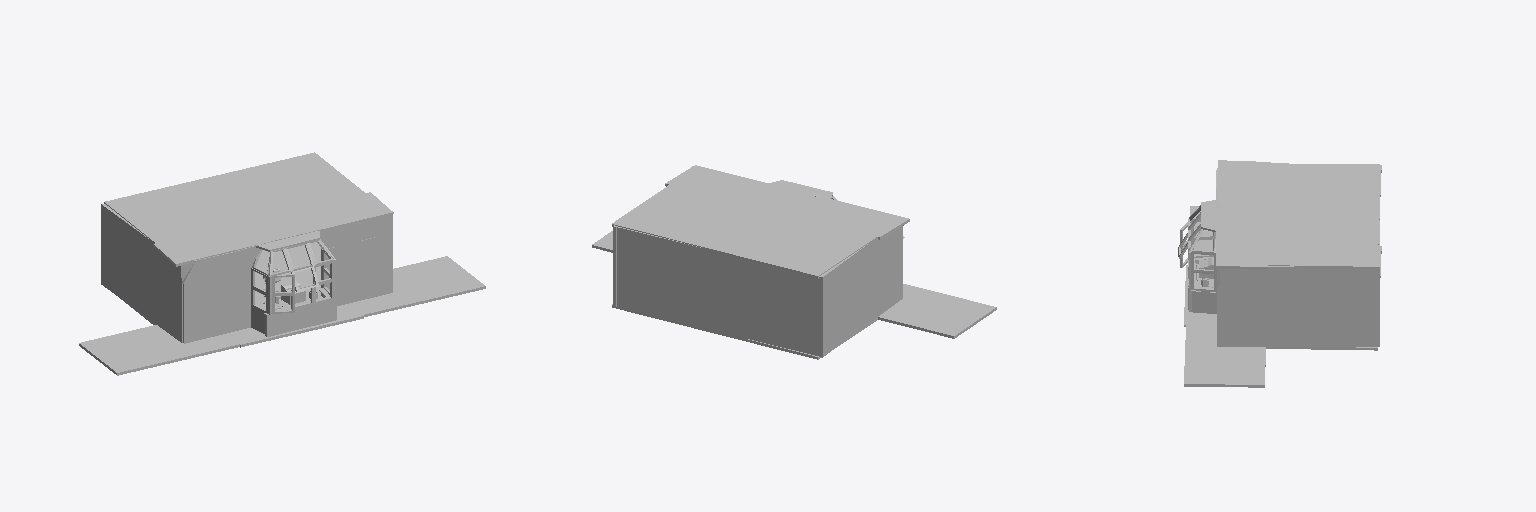
The picture shows the model from 3 angles: view 1: azimuth 30°, elevation 25°; view 2: azimuth 150°, elevation 25°; view 3: azimuth 270°, elevation 25°; orthographic projection.
Visible parts, largest first — view 1: floor.005_Cube.083, floor.001_Cube.078, Cube.031_Cube.066, Cube.024_Cube.051, Cube.035_Cube.101, Cube.017_Cube.008, hinge_Cube.011; view 2: floor.005_Cube.083, Cube.041_Cube.107, Cube.031_Cube.066, floor.001_Cube.078; view 3: floor.005_Cube.083, Cube.038_Cube.104, floor.001_Cube.078, Cube.018_Cube.010.
Part boxes in pixels (left/top/right/bottom): floor.005_Cube.083: left=104, top=152, right=392, bottom=266; floor.001_Cube.078: left=79, top=242, right=485, bottom=375; Cube.031_Cube.066: left=101, top=204, right=182, bottom=342; Cube.024_Cube.051: left=181, top=239, right=274, bottom=343; Cube.035_Cube.101: left=317, top=211, right=393, bottom=305; Cube.017_Cube.008: left=265, top=299, right=336, bottom=336; hinge_Cube.011: left=256, top=231, right=319, bottom=251; floor.005_Cube.083: left=612, top=165, right=909, bottom=278; Cube.041_Cube.107: left=617, top=227, right=818, bottom=355; Cube.031_Cube.066: left=819, top=226, right=902, bottom=357; floor.001_Cube.078: left=592, top=231, right=996, bottom=359; floor.005_Cube.083: left=1216, top=160, right=1381, bottom=269; Cube.038_Cube.104: left=1219, top=267, right=1379, bottom=346; floor.001_Cube.078: left=1184, top=206, right=1381, bottom=387; Cube.018_Cube.010: left=1192, top=291, right=1216, bottom=313.
Bounding box in the file's own units: 10.53 × 2.3 × 5.05.